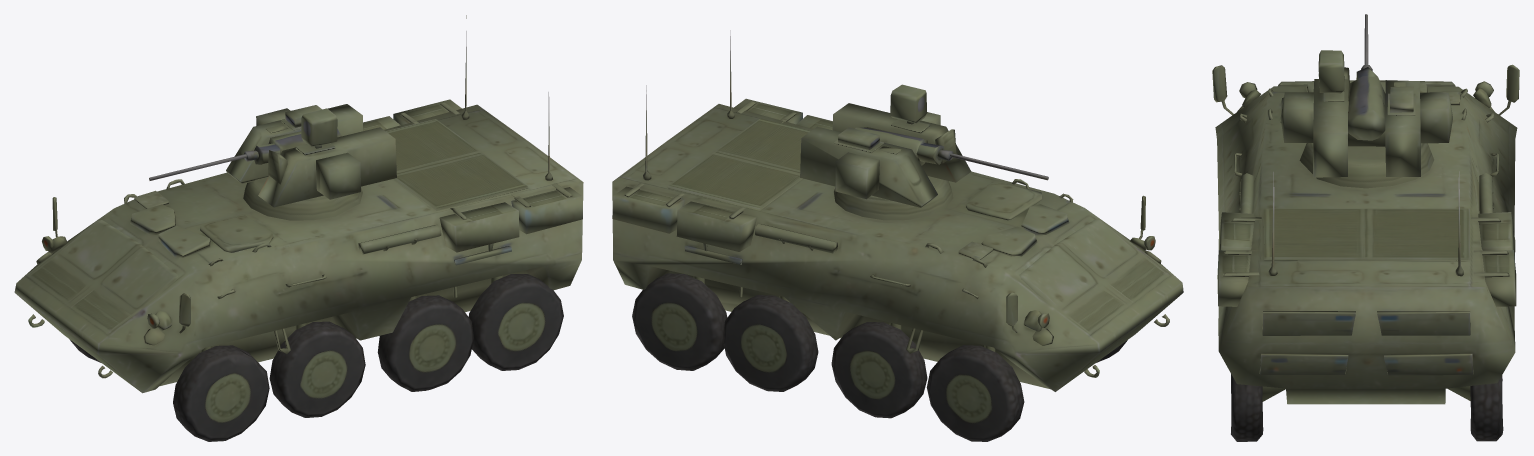
File: us-stryker.glb
3 renders of one model, left to right at view 1: azimuth 30°, elevation 25°; view 2: azimuth 150°, elevation 25°; view 3: azimuth 270°, elevation 25°, orthographic. The views are drawn at different scales.
Visible parts, largest first — view 1: geometry_0; view 2: geometry_0; view 3: geometry_0.
Part boxes in pixels (x1,y1,x2,y2): geometry_0: (14,15,583,441); geometry_0: (612,30,1183,441); geometry_0: (1212,14,1519,441).
Size of the model in its own units: 1 by 0.5474 by 0.5022.
1 material, 1 textured.
